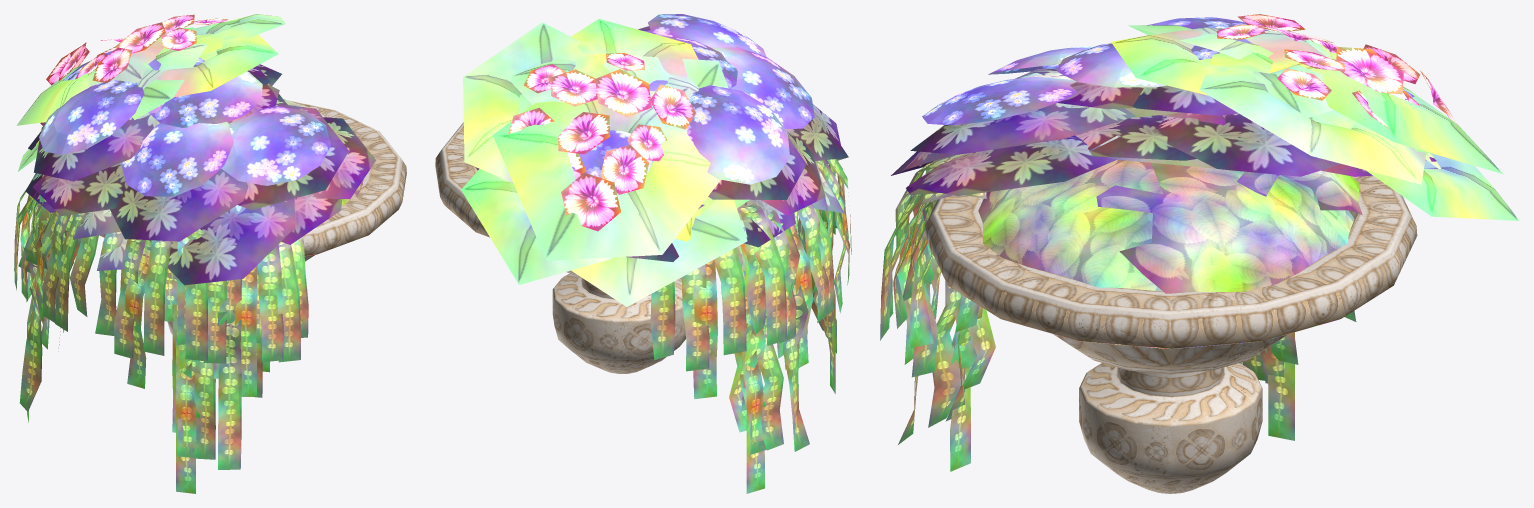
File: smallbowl09_SM.fbx
The picture shows the model from 3 angles, left to right: view 1: azimuth 30°, elevation 25°; view 2: azimuth 150°, elevation 25°; view 3: azimuth 270°, elevation 25°; orthographic projection. The views are drawn at different scales.
Parts seen in each view (by area): view 1: smallbowl09_SM_LOD0; view 2: smallbowl09_SM_LOD0; view 3: smallbowl09_SM_LOD0.
Part boxes in pixels (<box>): smallbowl09_SM_LOD0: <box>14,14,406,493</box>; smallbowl09_SM_LOD0: <box>435,14,851,493</box>; smallbowl09_SM_LOD0: <box>880,14,1519,493</box>.
Bounding box in the file's own units: 174 × 201 × 175.
Materials: 8 (8 with a texture image).
